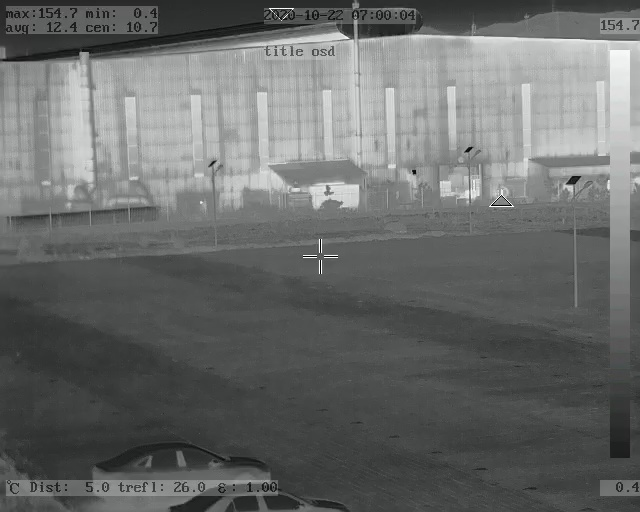vehicle: (87, 441, 272, 497), (162, 487, 347, 512)
